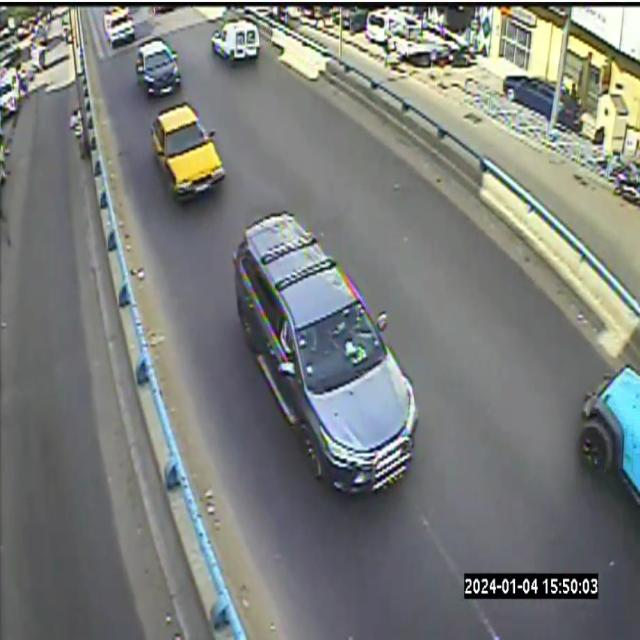car: (233, 211, 417, 492), (580, 365, 639, 503), (152, 102, 225, 197), (136, 40, 181, 94), (211, 19, 260, 60), (104, 6, 134, 47)
